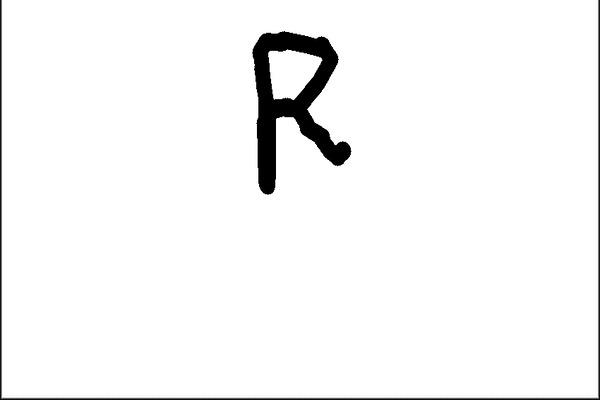R: (231, 22, 365, 212)
